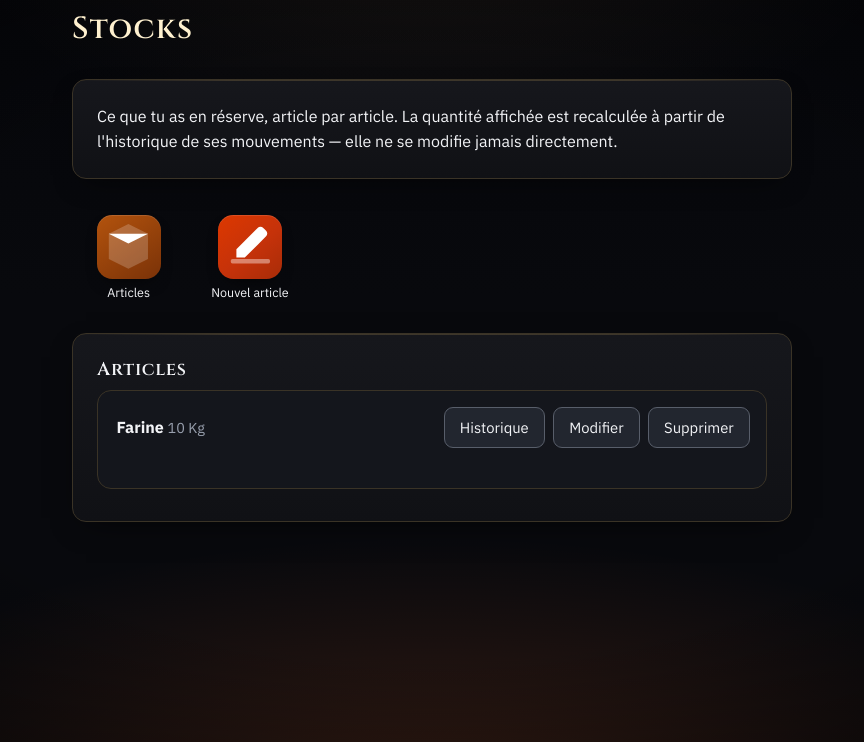
it: StocksPage › modifie un article via le formulaire en ligne
The image size is (864, 742).
Expected: the text "Farine" is shown, [116,417,164,437]
Click the button "Modifier": (596, 428) [553,407,640,448]
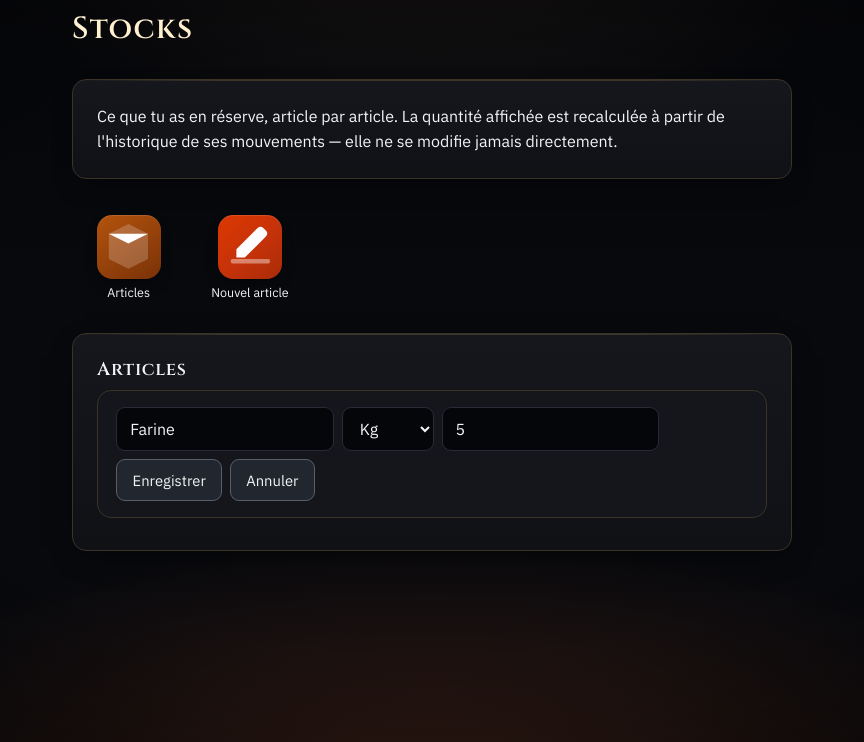
Replace the text in the field named "Nom de Farine" with "Farine T45": (225, 429) [116,407,334,451]
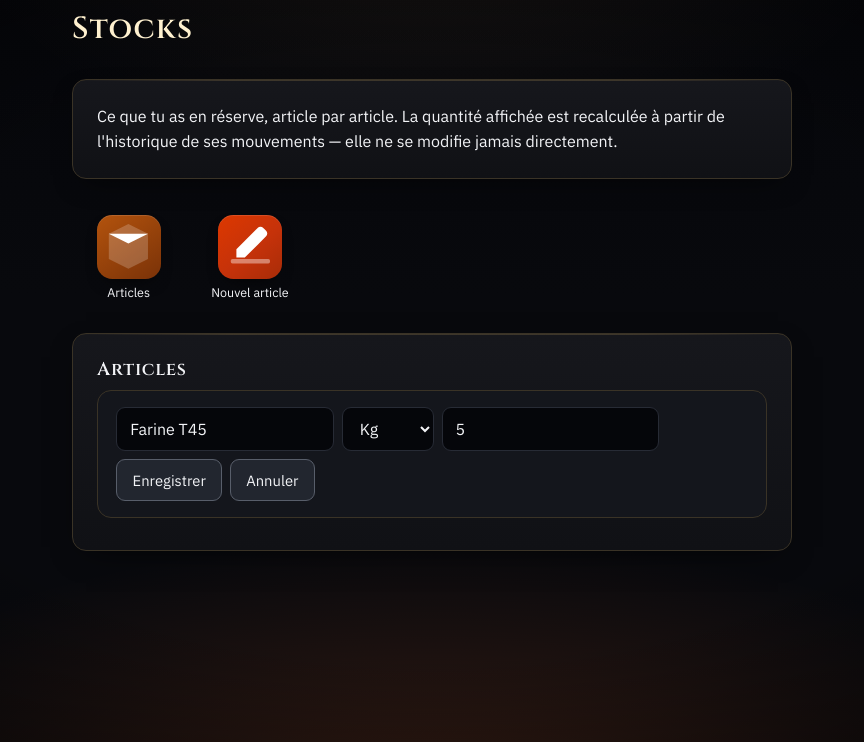
Click the button "Enregistrer": (169, 480) [116,459,222,501]
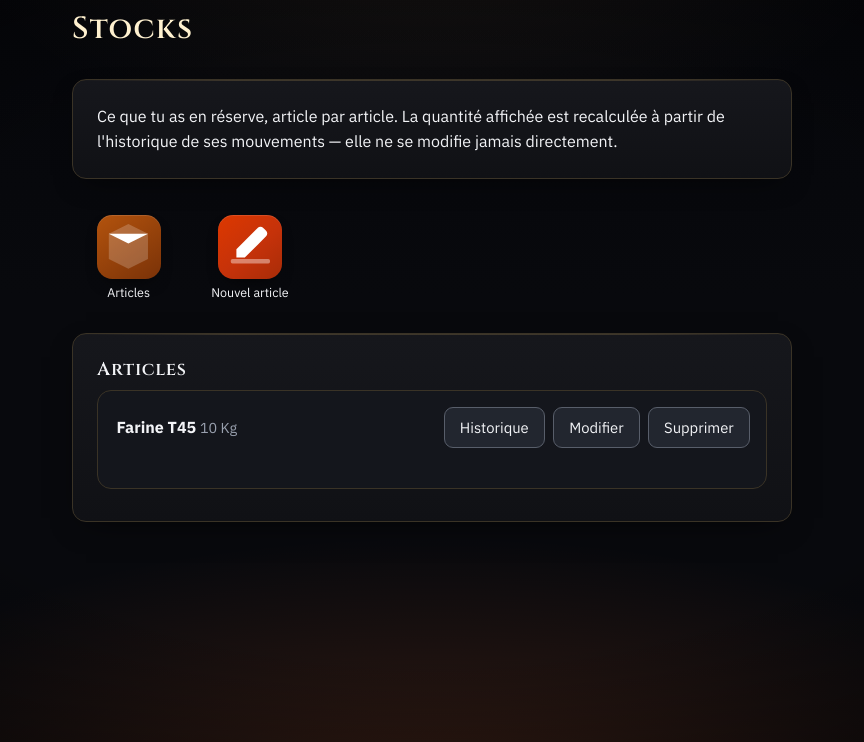
Result: the text "Farine T45" is shown at [116,417,196,437]
